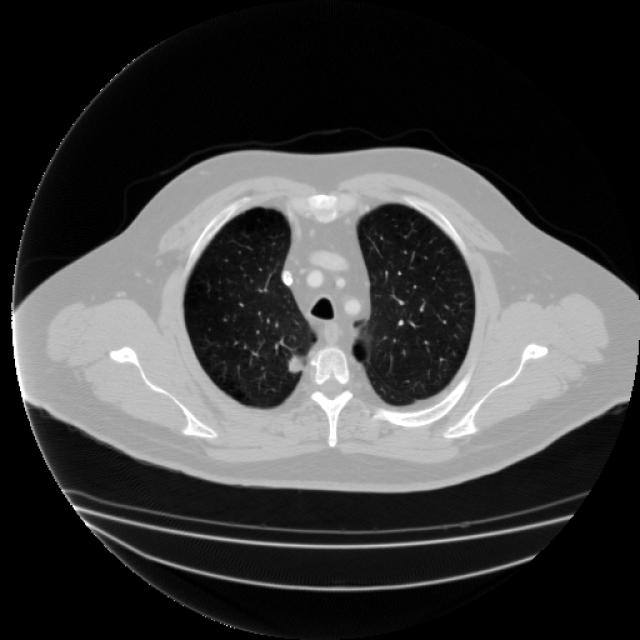nodule: (275, 346, 313, 384)
